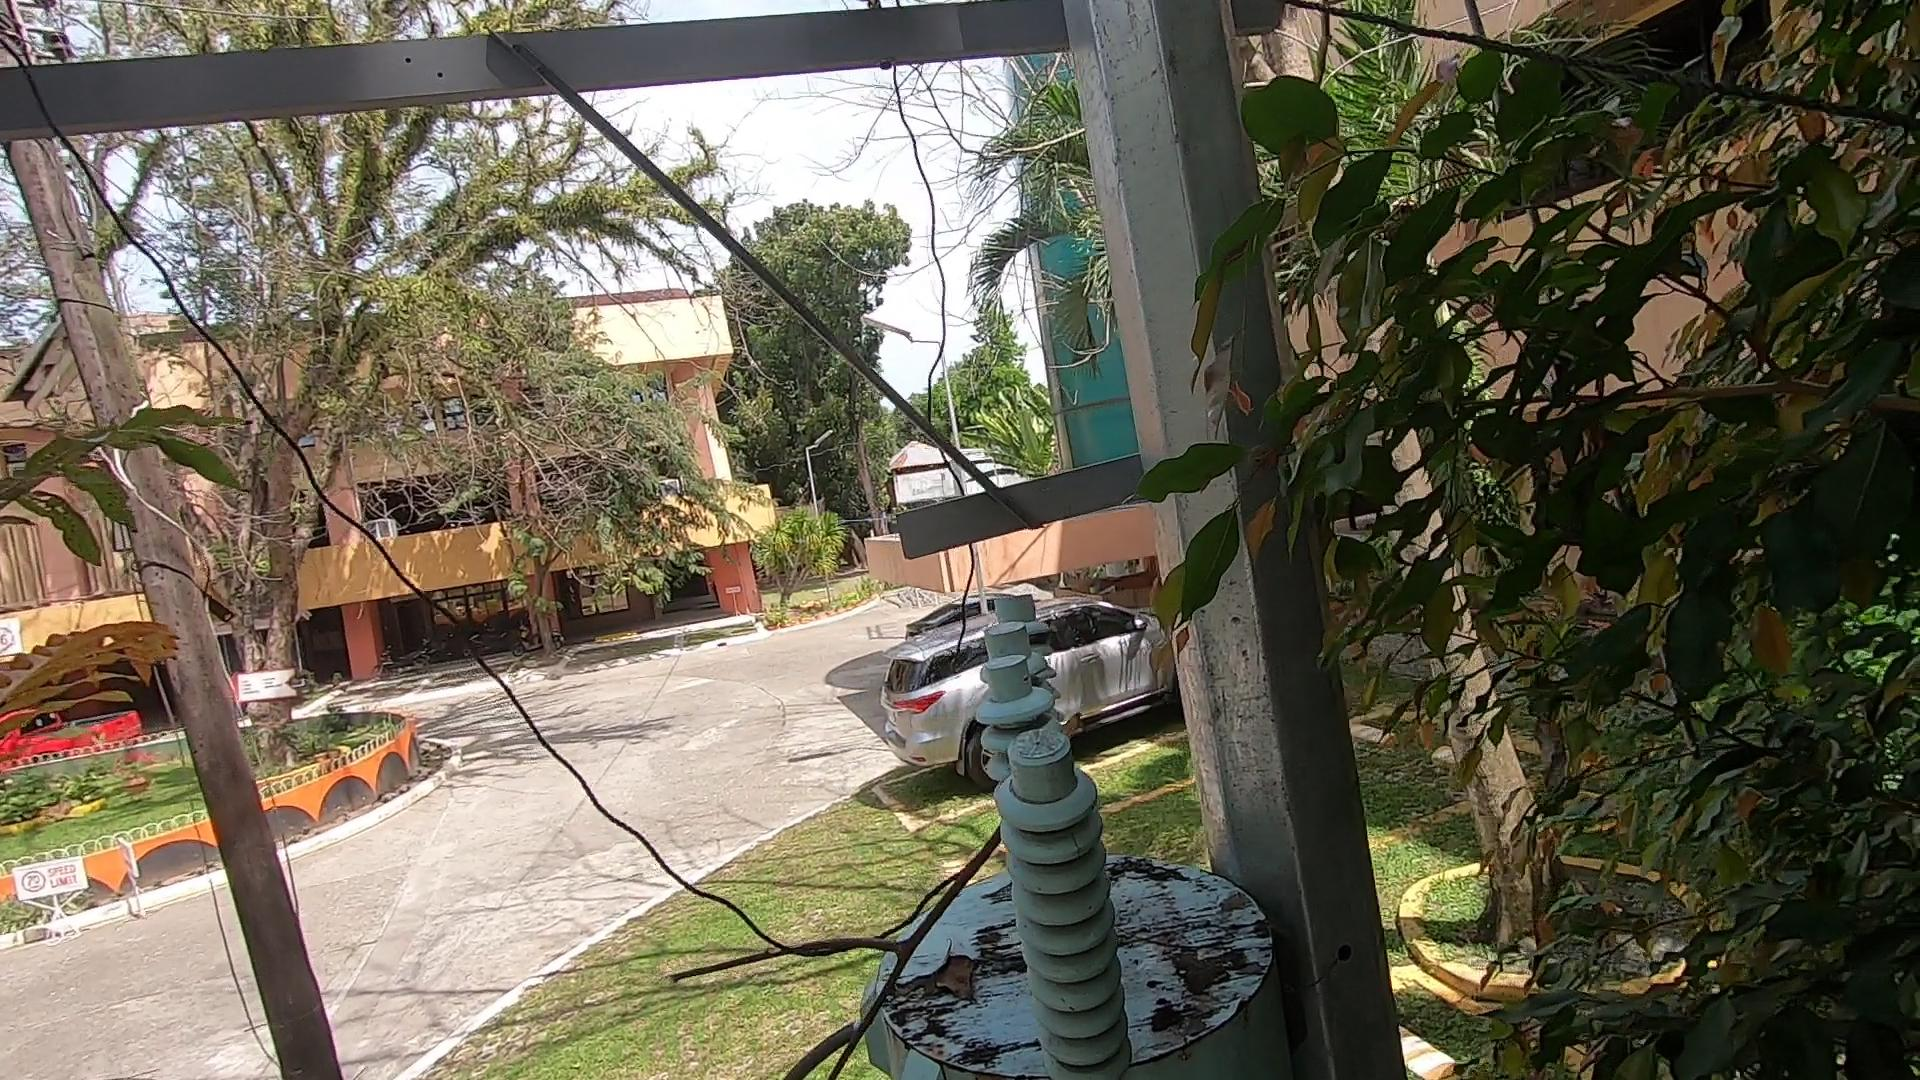leaf: (902, 943, 990, 1011)
tree branch: (651, 727, 1154, 1080)
